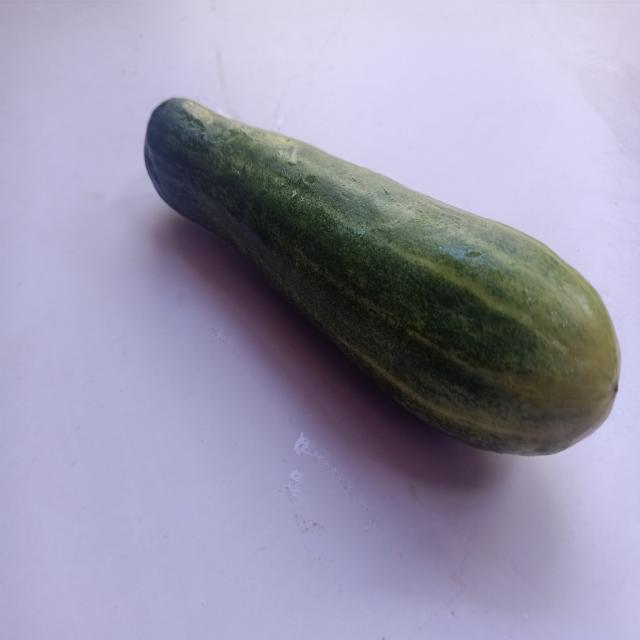Cucumber: (98, 54, 638, 498)
